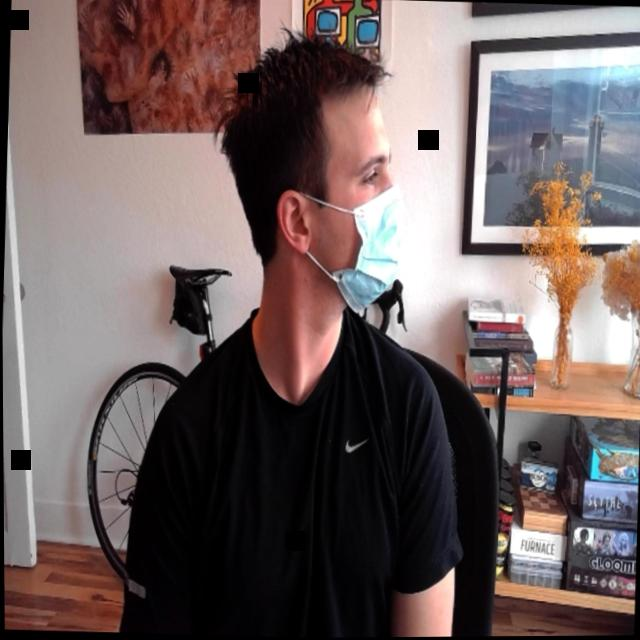Mask: (297, 82, 411, 317)
